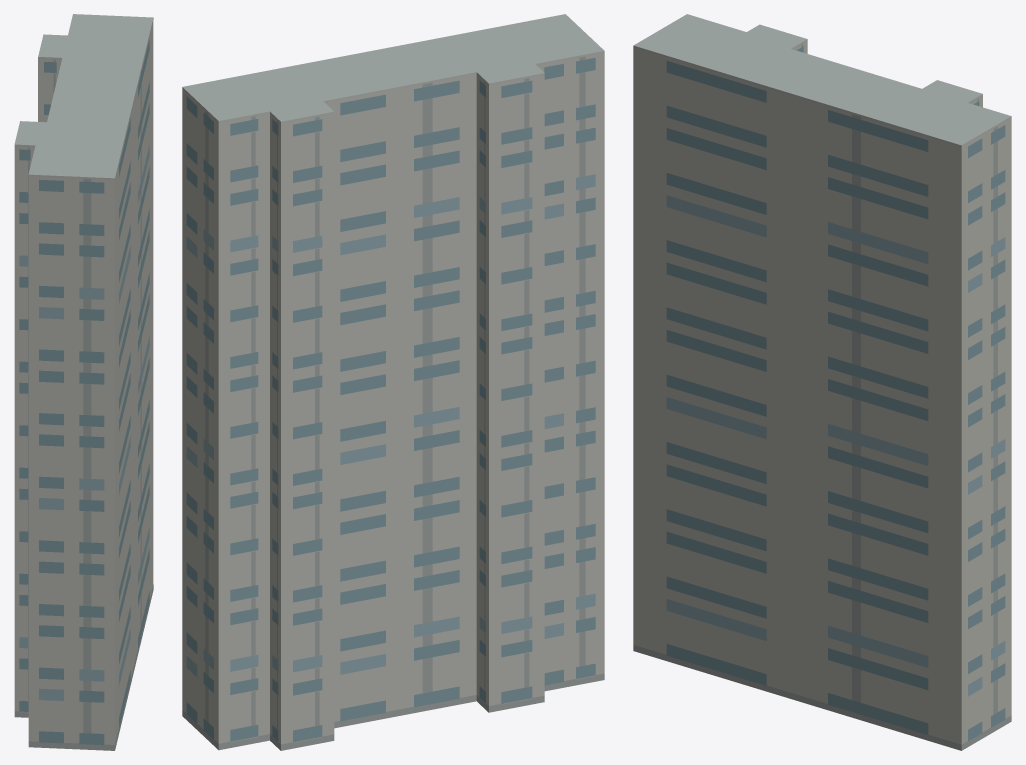
The model's file is residential-3e95cc94-5c68-4fca-9836-5207a65dea8f.glb.
3 views of the same model, side by side, from view 1: azimuth 30°, elevation 25°; view 2: azimuth 150°, elevation 25°; view 3: azimuth 270°, elevation 25° (orthographic). The views are drawn at different scales.
Parts seen in each view (by area): view 1: residential-3e95cc94-5c68-4fca-9836-5207a65dea8f.tmp; view 2: residential-3e95cc94-5c68-4fca-9836-5207a65dea8f.tmp; view 3: residential-3e95cc94-5c68-4fca-9836-5207a65dea8f.tmp.
Part boxes in pixels (x1,y1,x2,y2): residential-3e95cc94-5c68-4fca-9836-5207a65dea8f.tmp: [14, 14, 153, 750]; residential-3e95cc94-5c68-4fca-9836-5207a65dea8f.tmp: [182, 14, 604, 750]; residential-3e95cc94-5c68-4fca-9836-5207a65dea8f.tmp: [633, 14, 1011, 750].
Bounding box in the file's own units: 34.46 × 74 × 41.9.
